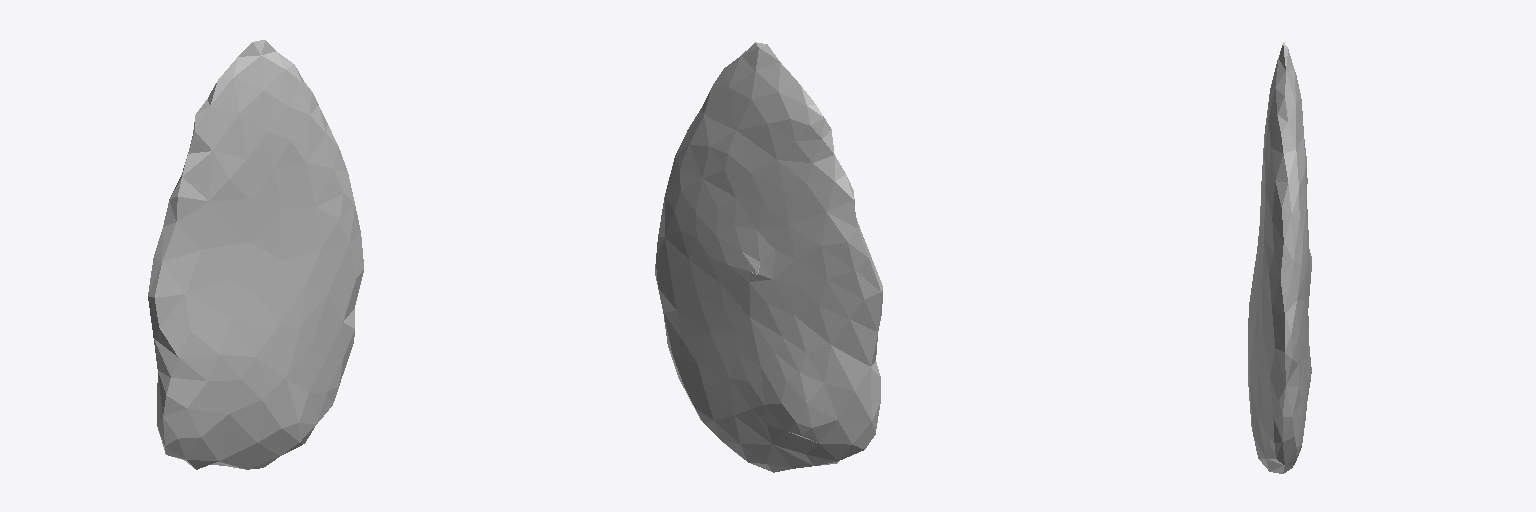
Rendered from PM_GraniteKnife_HR_Geometry.obj.
3 views of the same model, side by side, from view 1: azimuth 30°, elevation 25°; view 2: azimuth 150°, elevation 25°; view 3: azimuth 270°, elevation 25° (orthographic).
Parts seen in each view (by area): view 1: PM_GraniteKnife_HR_Geometry_PM_GraniteKnife_HR_Geometry_0_0; view 2: PM_GraniteKnife_HR_Geometry_PM_GraniteKnife_HR_Geometry_0_0; view 3: PM_GraniteKnife_HR_Geometry_PM_GraniteKnife_HR_Geometry_0_0.
Boxes of the visible parts, x1=… form: PM_GraniteKnife_HR_Geometry_PM_GraniteKnife_HR_Geometry_0_0: x1=148, y1=40, x2=363, y2=469; PM_GraniteKnife_HR_Geometry_PM_GraniteKnife_HR_Geometry_0_0: x1=655, y1=42, x2=882, y2=472; PM_GraniteKnife_HR_Geometry_PM_GraniteKnife_HR_Geometry_0_0: x1=1248, y1=42, x2=1311, y2=473.
Size of the model in its own units: 2418 by 4447 by 613.